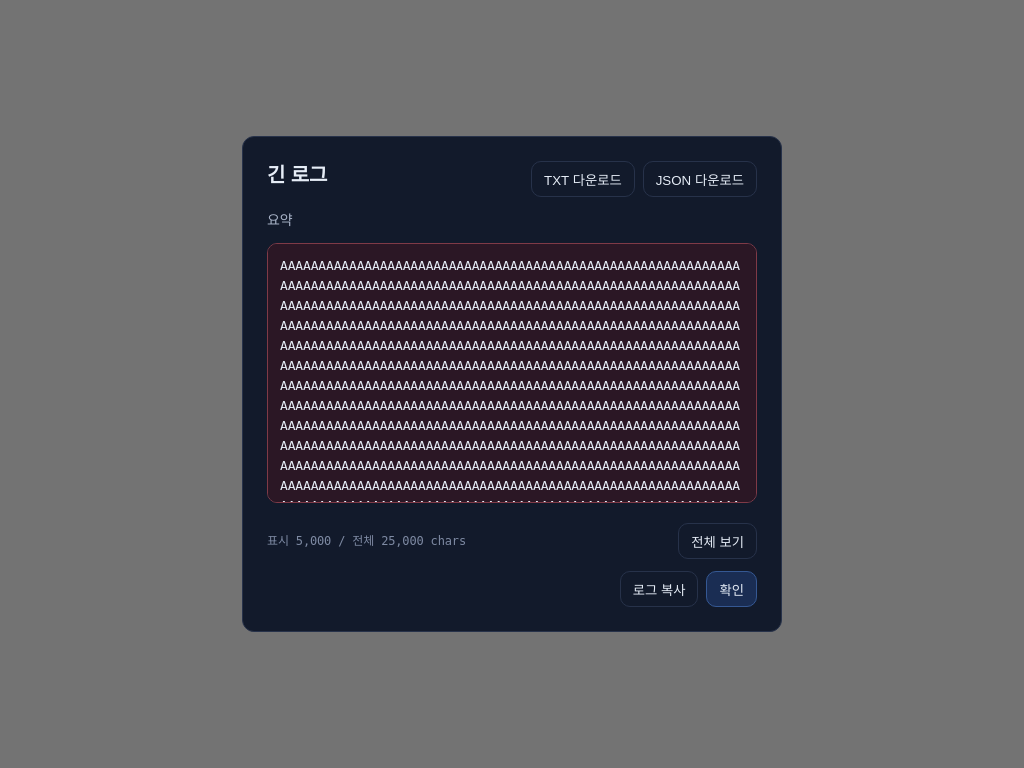
Test: ErrorLogModal › 긴 로그는 기본적으로 잘라서 보여주고 전체 보기로 확장할 수 있다
Check: the text "표시 5,000 / 전체 25,000 chars" is shown, box [267,532,466,550]
Click the button "전체 보기": (718, 541) [678,523,757,559]
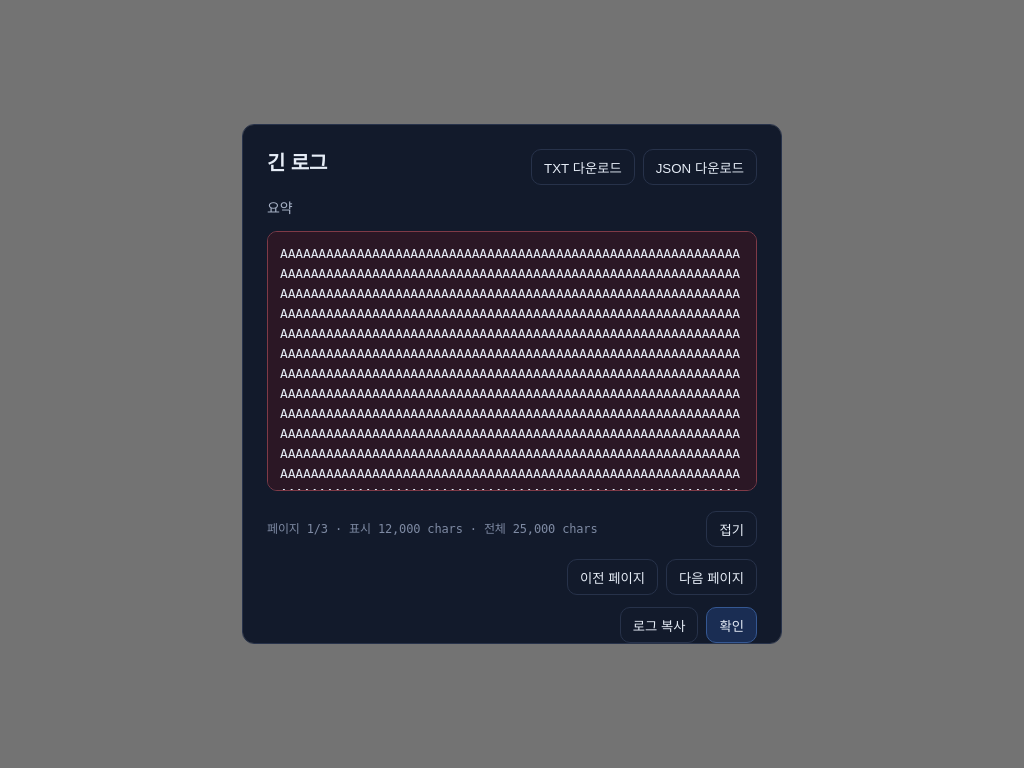
Check: the text "페이지 1/3 · 표시 12,000 chars · 전체 25,000 chars" is shown, box [267,520,598,538]
Check: the button "다음 페이지" is shown
Click the button "다음 페이지": (712, 577) [666,559,757,595]
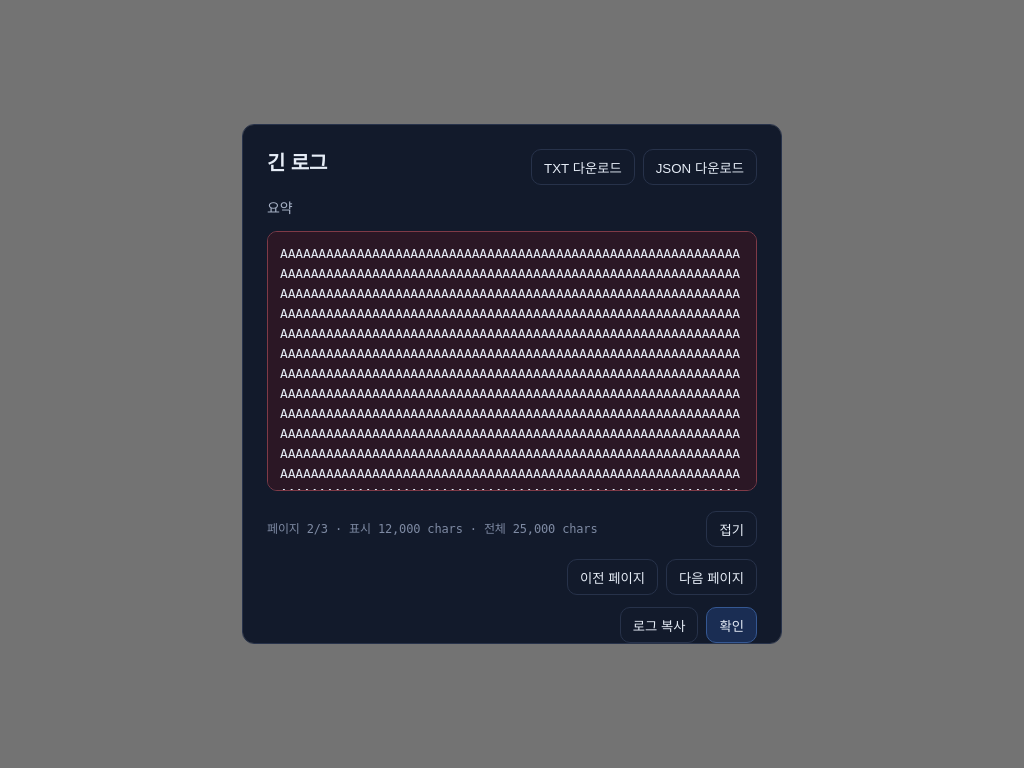
Check: the button "접기" is shown, box [706,511,757,547]
Check: the text "페이지 2/3 · 표시 12,000 chars · 전체 25,000 chars" is shown, box [267,520,598,538]
